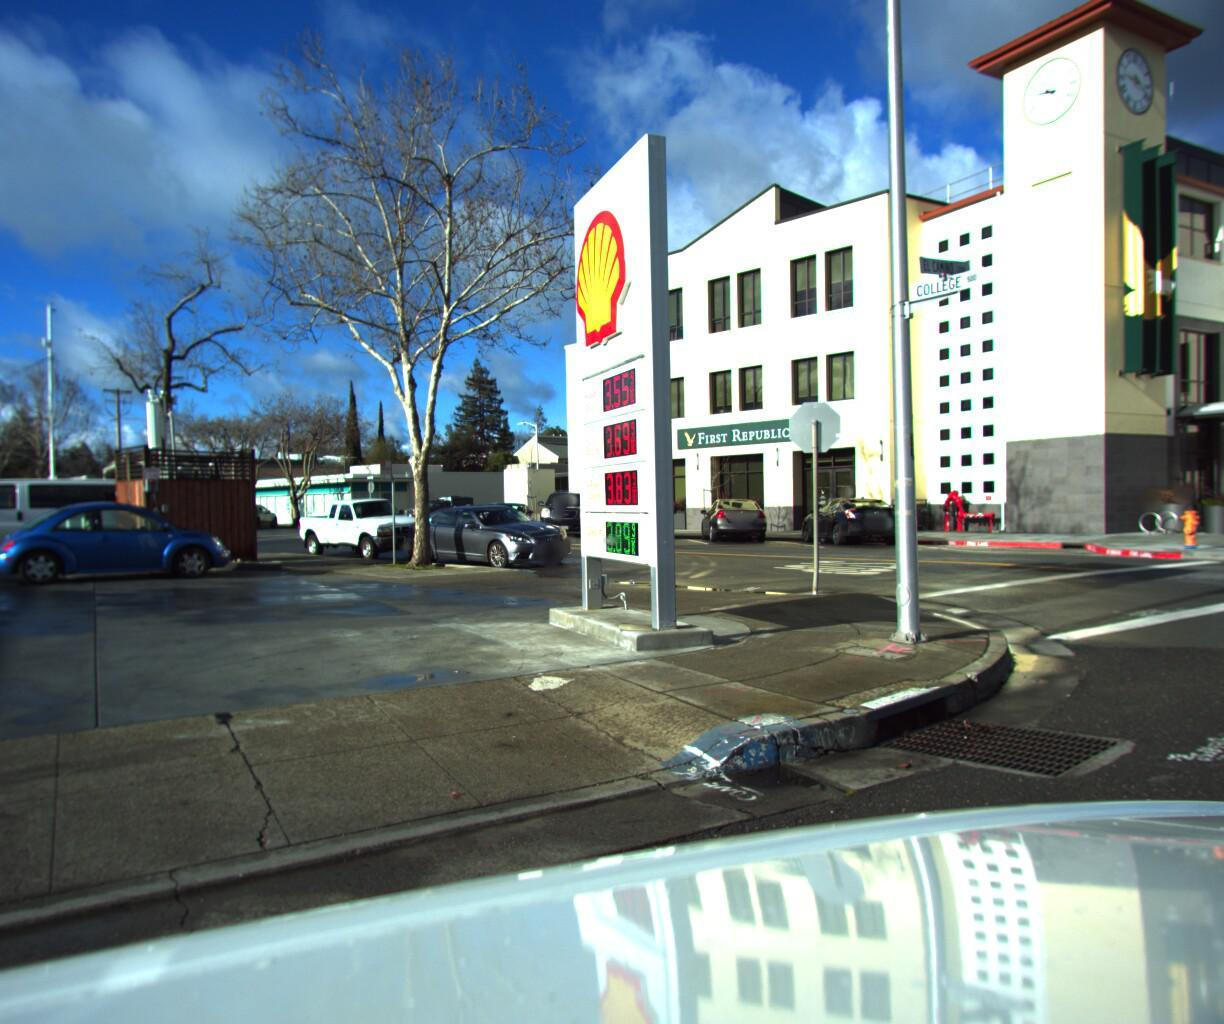car: (0, 495, 241, 584), (0, 475, 196, 573), (397, 500, 585, 574), (292, 494, 442, 560), (797, 491, 913, 548), (702, 494, 776, 544), (543, 491, 597, 540), (402, 491, 476, 523)
